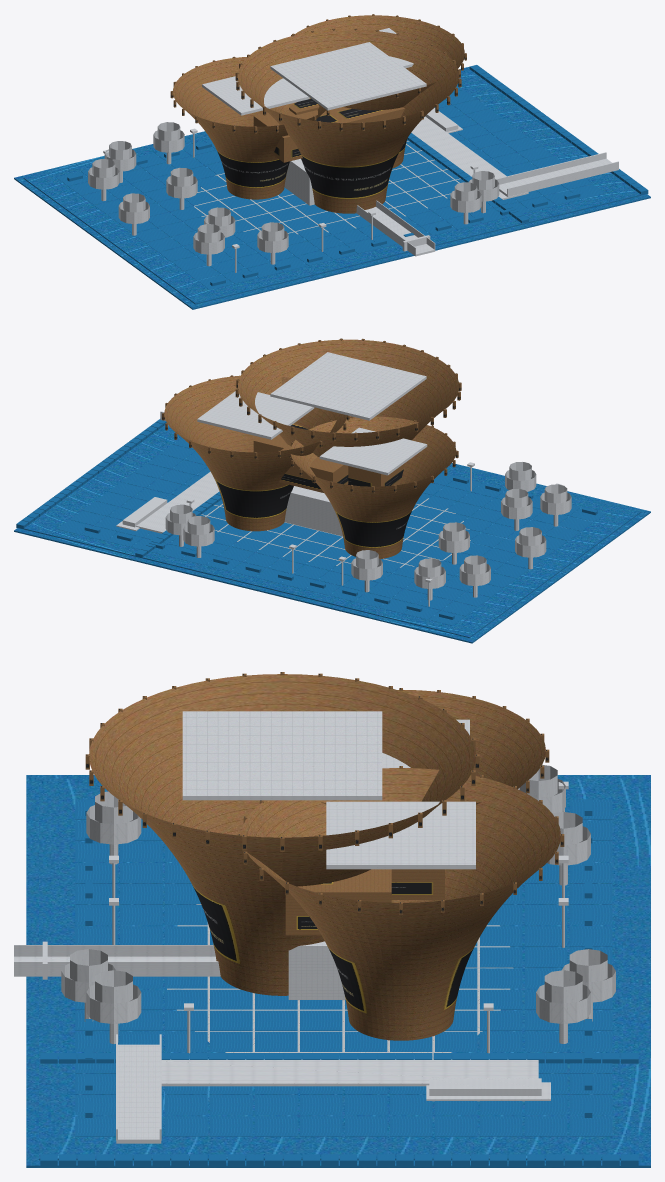
3 renders of one model, top to bottom at view 1: azimuth 30°, elevation 25°; view 2: azimuth 150°, elevation 25°; view 3: azimuth 270°, elevation 25°, orthographic. The views are drawn at different scales.
Parts seen in each view (by area): view 1: 28185_01_21987_001_01__plaza_ground_base, 28185_01_21987_001_02__tribowl_curved_shells, 28185_01_21987_001_04__bridges_decks_amenities, 28185_01_21987_001_03__reflecting_pond_canal; view 2: 28185_01_21987_001_01__plaza_ground_base, 28185_01_21987_001_02__tribowl_curved_shells, 28185_01_21987_001_04__bridges_decks_amenities, 28185_01_21987_001_03__reflecting_pond_canal; view 3: 28185_01_21987_001_01__plaza_ground_base, 28185_01_21987_001_02__tribowl_curved_shells, 28185_01_21987_001_04__bridges_decks_amenities, 28185_01_21987_001_03__reflecting_pond_canal.
Boxes of the visible parts, left/top/right/bottom form: 28185_01_21987_001_01__plaza_ground_base: left=14, top=65, right=650, bottom=309; 28185_01_21987_001_02__tribowl_curved_shells: left=170, top=14, right=466, bottom=213; 28185_01_21987_001_04__bridges_decks_amenities: left=88, top=28, right=618, bottom=272; 28185_01_21987_001_03__reflecting_pond_canal: left=194, top=141, right=460, bottom=234; 28185_01_21987_001_01__plaza_ground_base: left=14, top=419, right=650, bottom=643; 28185_01_21987_001_02__tribowl_curved_shells: left=162, top=338, right=461, bottom=558; 28185_01_21987_001_04__bridges_decks_amenities: left=116, top=352, right=571, bottom=606; 28185_01_21987_001_03__reflecting_pond_canal: left=201, top=498, right=470, bottom=567; 28185_01_21987_001_01__plaza_ground_base: left=26, top=775, right=650, bottom=1167; 28185_01_21987_001_02__tribowl_curved_shells: left=85, top=672, right=564, bottom=1040; 28185_01_21987_001_04__bridges_decks_amenities: left=14, top=711, right=615, bottom=1143; 28185_01_21987_001_03__reflecting_pond_canal: left=167, top=904, right=513, bottom=1059.
Bounding box in the file's own units: 74.2 × 19.35 × 51.
Materials: 4 (4 with a texture image).
